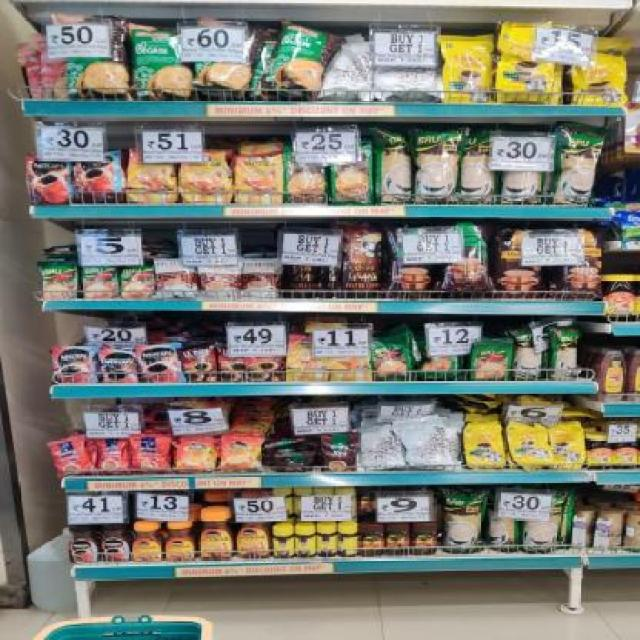Coffee: (181, 150, 233, 203), (129, 150, 177, 202), (27, 155, 75, 205), (76, 152, 122, 202), (235, 155, 280, 203), (198, 513, 233, 559), (56, 346, 96, 383), (140, 346, 180, 382), (178, 438, 217, 472), (222, 437, 258, 472), (236, 524, 270, 560), (102, 351, 136, 384), (166, 522, 194, 560), (132, 523, 160, 560), (102, 523, 128, 562), (71, 526, 97, 562)
